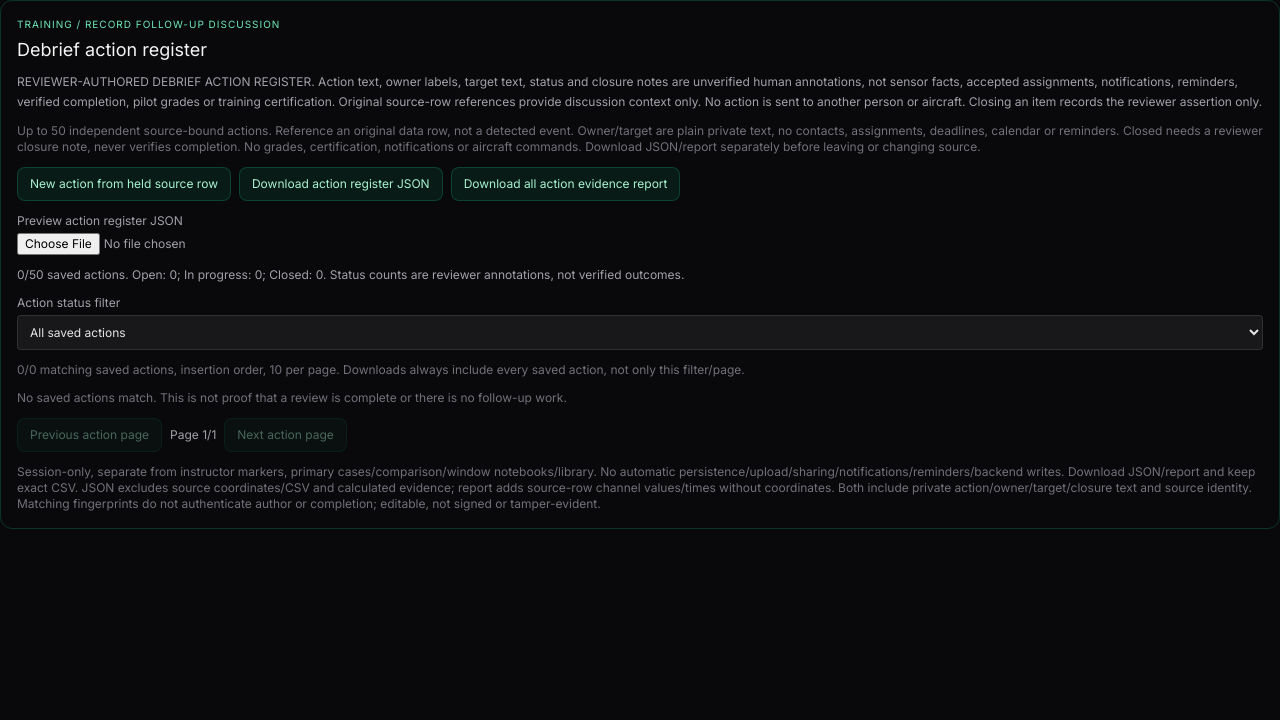
Test: debrief action register workflow › creates a source-bound held-row draft, blocks export until save/cancel and seeks exact original reference
Click the button "New action from held source row" at (124, 184), box [17,167,231,201]
(page scrolled)
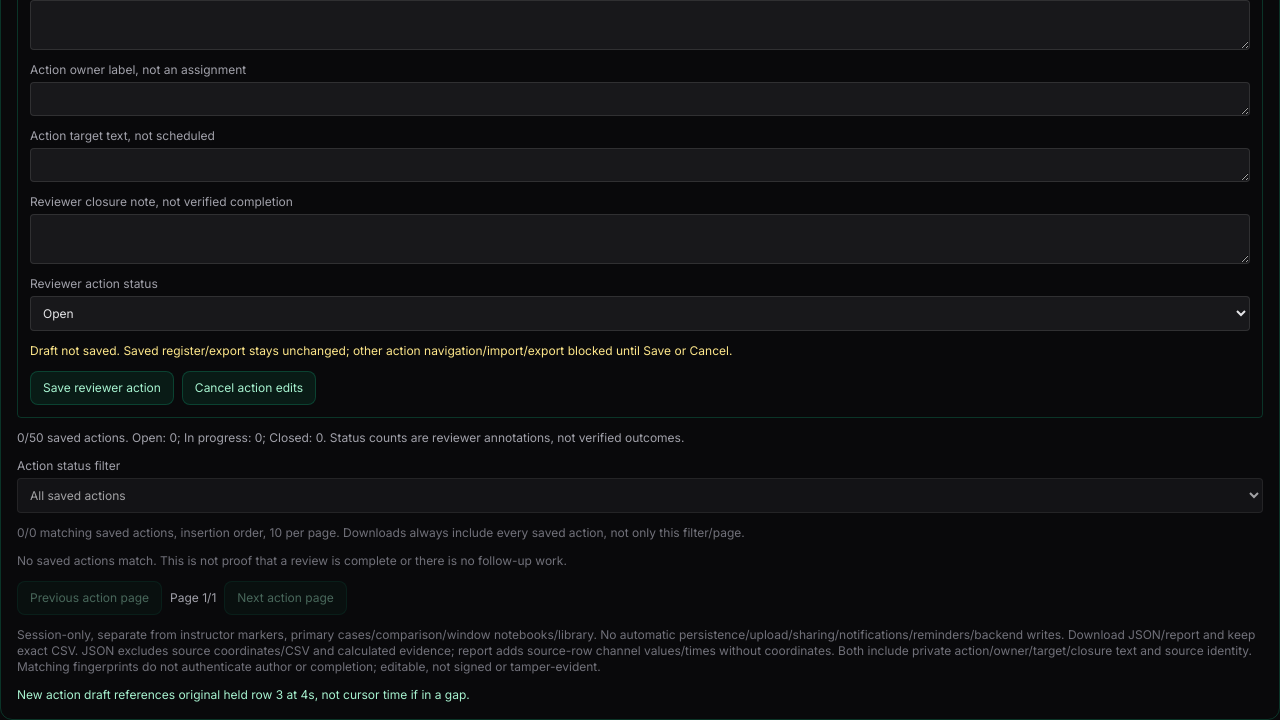
Click the button "Save reviewer action" at (102, 388), box [30,371,174,405]
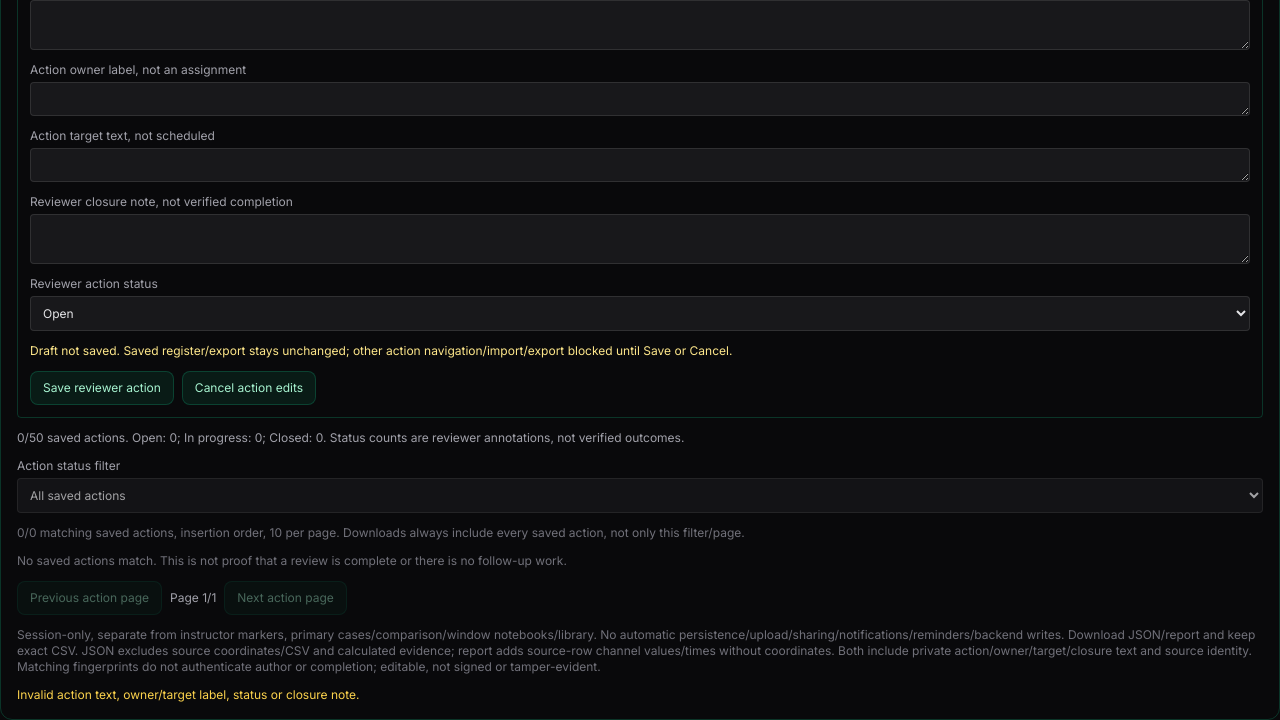
Now the message "Invalid action text, owner/target label, status or closure note." is shown, box [17,687,360,702]
Type "Discuss missing evidence" into the text box labelled "Reviewer action text" at (640, 25), box [30,0,1250,50]
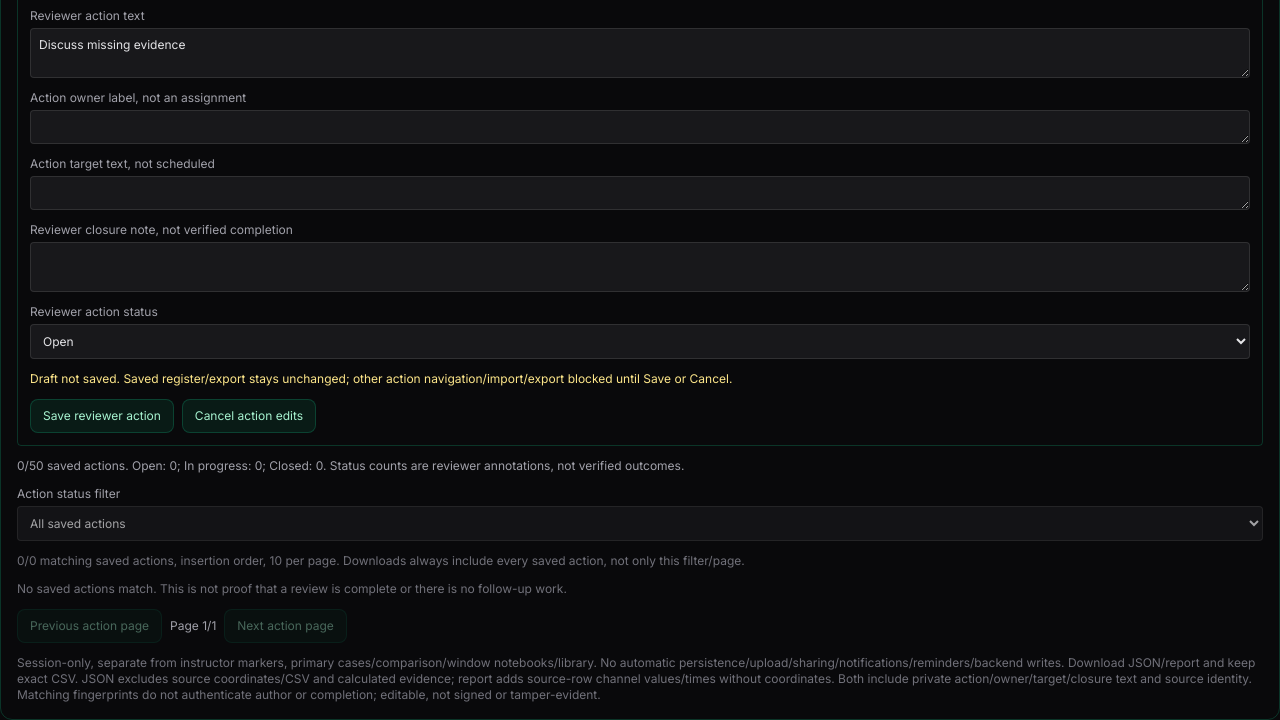
Click the button "Save reviewer action" at (102, 416), box [30,399,174,433]
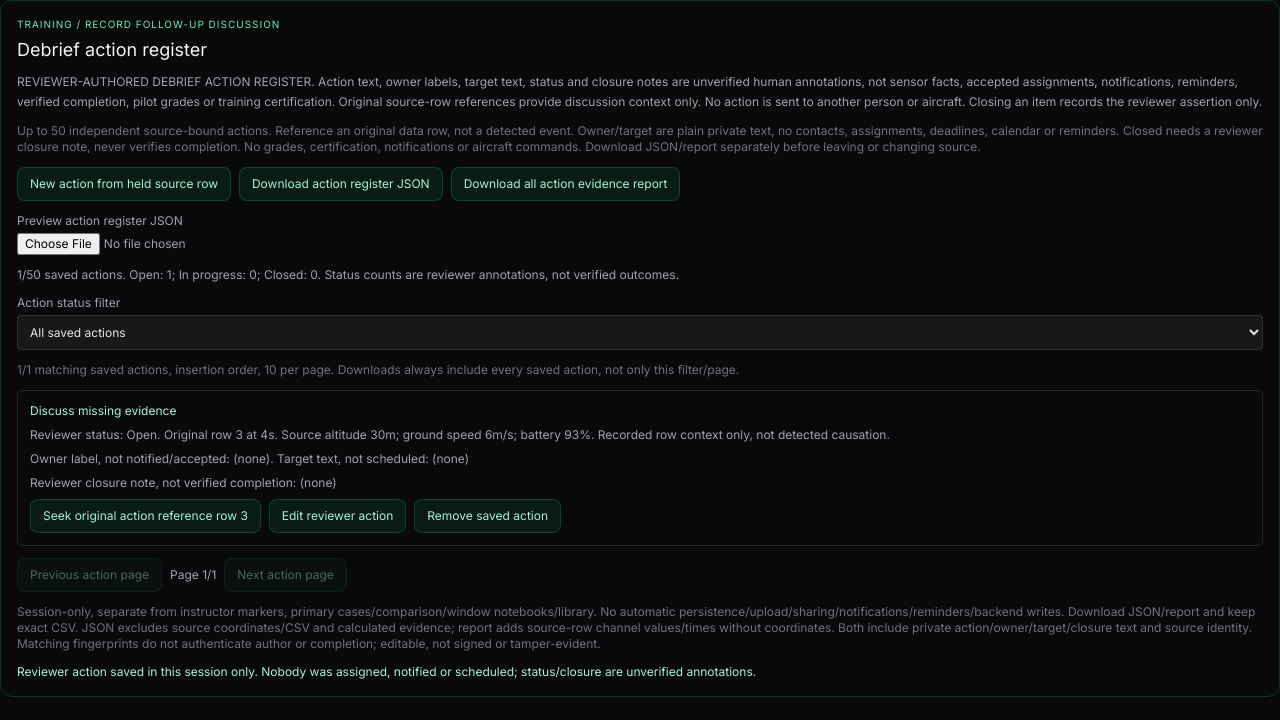
Now the text named "Debrief action counts" shows "1/50 saved", box [17,267,679,282]
Click the button "Seek original action reference row 3" at (145, 516), box [30,499,261,533]
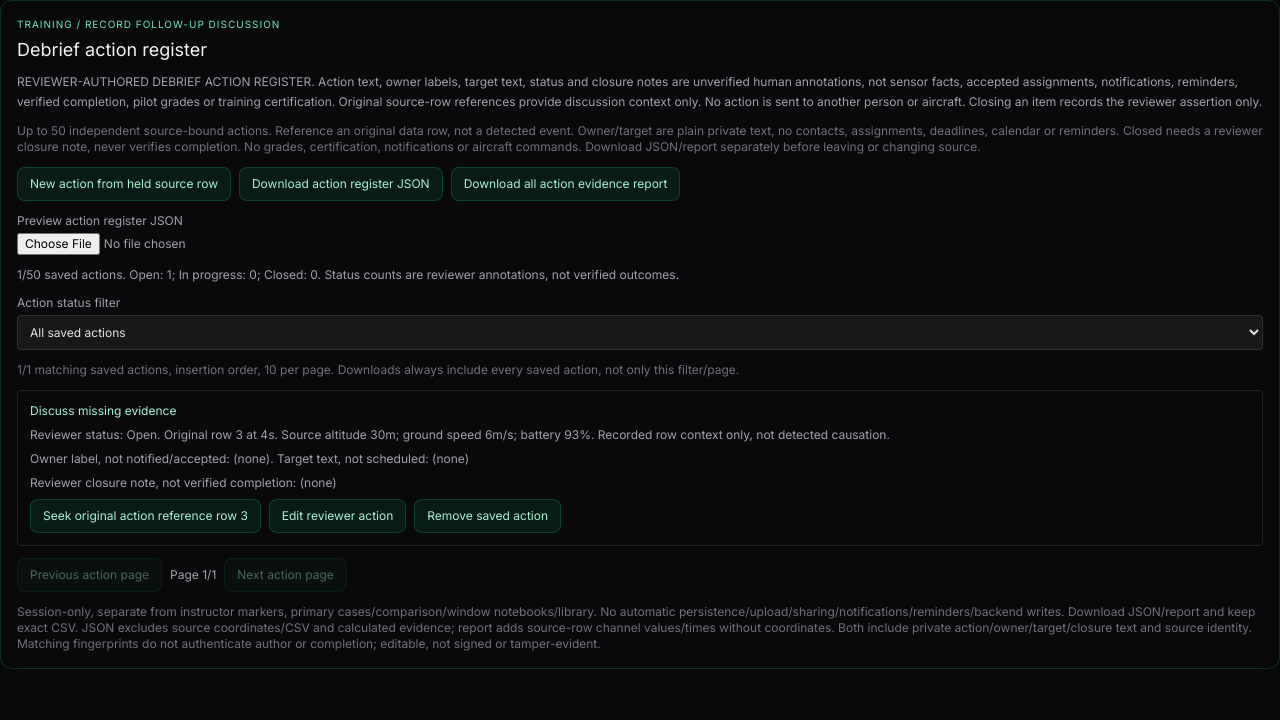
Now the text "Nobody was assigned" is gone
